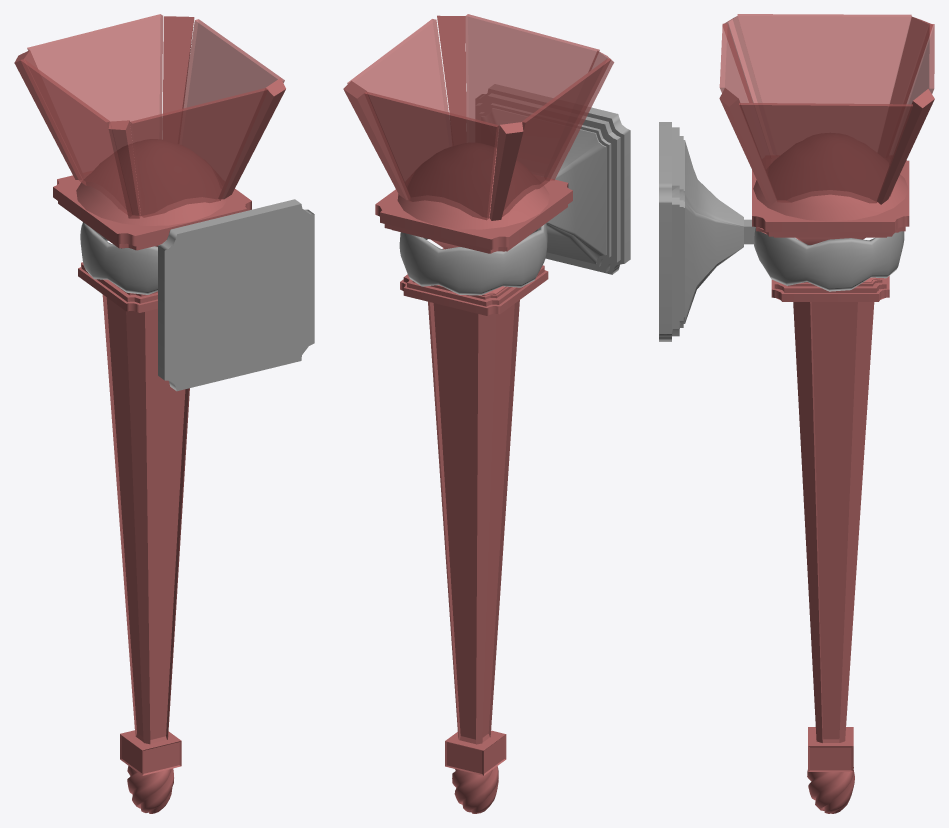
The model's file is Torch.fbx.
The picture shows the model from 3 angles, left to right: view 1: azimuth 30°, elevation 25°; view 2: azimuth 150°, elevation 25°; view 3: azimuth 270°, elevation 25°; orthographic projection.
Parts seen in each view (by area): view 1: pCube6, pCylinder1, polySurface5, pSphere3, polySurface11, polySurface2, polySurface12, pTorus1, polySurface8, polySurface9, pCube7, polySurface4 (+2 smaller); view 2: pCylinder1, polySurface11, pSphere3, pCube6, polySurface5, polySurface2, pTorus1, polySurface12, polySurface4, pCube8, pCube7, polySurface8 (+2 smaller); view 3: pCylinder1, polySurface12, polySurface2, pSphere3, pCube6, pTorus1, polySurface9, polySurface11, pCube8, polySurface8, polySurface4, polySurface5 (+2 smaller).
Boxes of the visible parts, x1=… form: pCube6: x1=158, y1=199, x2=314, y2=391; pCylinder1: x1=102, y1=294, x2=189, y2=744; polySurface5: x1=27, y1=14, x2=162, y2=174; pSphere3: x1=53, y1=139, x2=251, y2=250; polySurface11: x1=130, y1=88, x2=267, y2=217; polySurface2: x1=178, y1=19, x2=284, y2=188; polySurface12: x1=20, y1=59, x2=140, y2=218; pTorus1: x1=80, y1=222, x2=157, y2=294; polySurface8: x1=163, y1=16, x2=194, y2=143; polySurface9: x1=14, y1=50, x2=83, y2=179; pCube7: x1=120, y1=730, x2=181, y2=775; polySurface4: x1=218, y1=78, x2=285, y2=199; pCylinder1: x1=428, y1=300, x2=519, y2=744; polySurface11: x1=465, y1=14, x2=599, y2=175; pSphere3: x1=375, y1=143, x2=572, y2=253; pCube6: x1=475, y1=84, x2=630, y2=274; polySurface5: x1=364, y1=91, x2=498, y2=220; polySurface2: x1=347, y1=19, x2=452, y2=184; pTorus1: x1=399, y1=223, x2=547, y2=295; polySurface12: x1=502, y1=50, x2=614, y2=216; polySurface4: x1=437, y1=15, x2=466, y2=145; pCube8: x1=400, y1=248, x2=548, y2=315; pCube7: x1=445, y1=730, x2=506, y2=775; polySurface8: x1=343, y1=81, x2=410, y2=200; pCylinder1: x1=793, y1=302, x2=874, y2=742; polySurface12: x1=722, y1=14, x2=911, y2=158; polySurface2: x1=739, y1=103, x2=912, y2=203; pSphere3: x1=752, y1=133, x2=909, y2=244; pCube6: x1=659, y1=122, x2=743, y2=341; pTorus1: x1=754, y1=228, x2=904, y2=291; polySurface9: x1=878, y1=16, x2=932, y2=157; polySurface11: x1=719, y1=23, x2=770, y2=168; pCube8: x1=771, y1=276, x2=889, y2=301; polySurface8: x1=877, y1=89, x2=934, y2=204; polySurface4: x1=719, y1=88, x2=776, y2=204; polySurface5: x1=886, y1=24, x2=934, y2=197.
Bounding box in the file's own units: 4.62 × 18.22 × 6.03.
